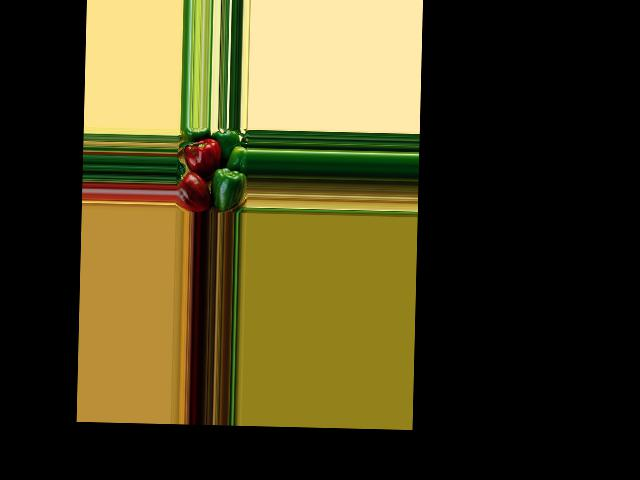bell_pepper: (177, 171, 209, 212)
